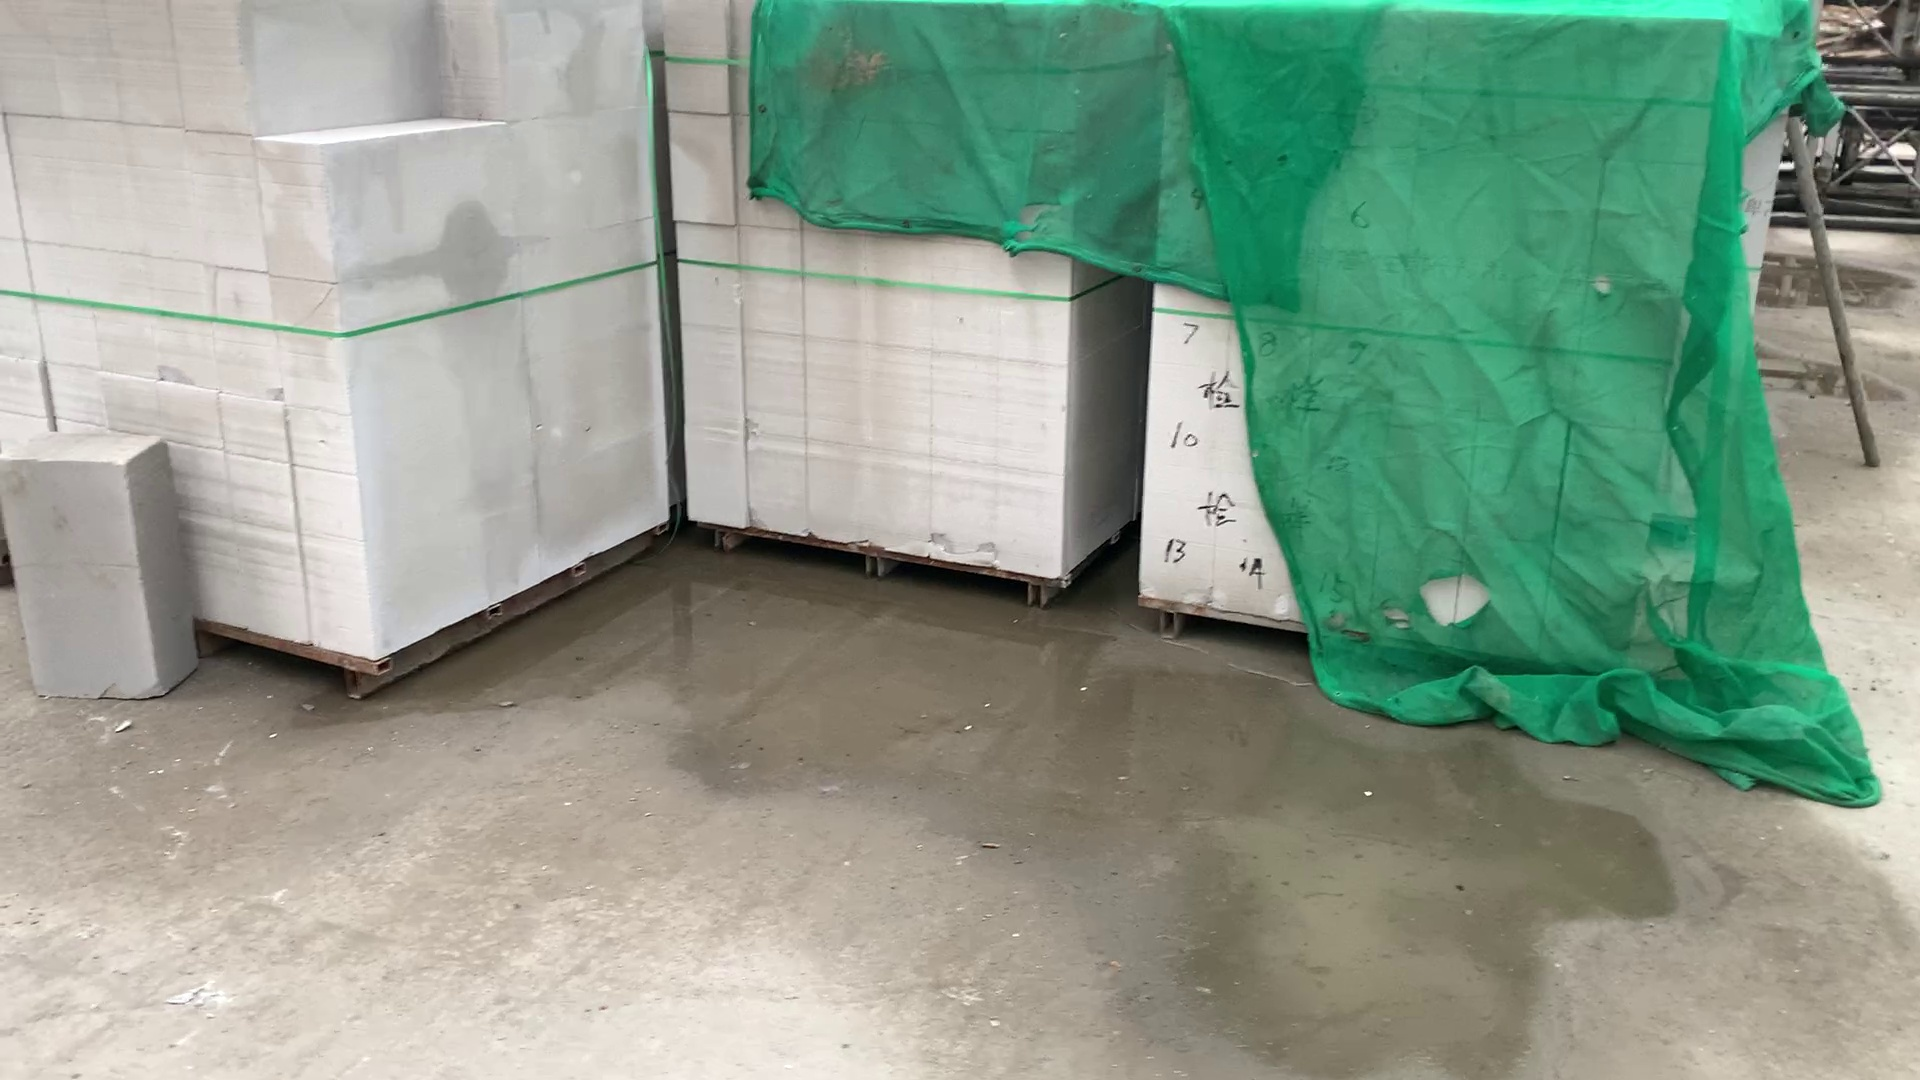brickwork: (3, 4, 674, 680), (1147, 18, 1743, 629), (669, 7, 1120, 595)
